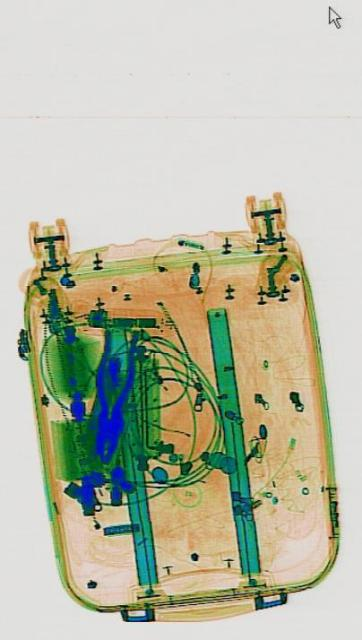Pliers: (82, 317, 137, 471)
